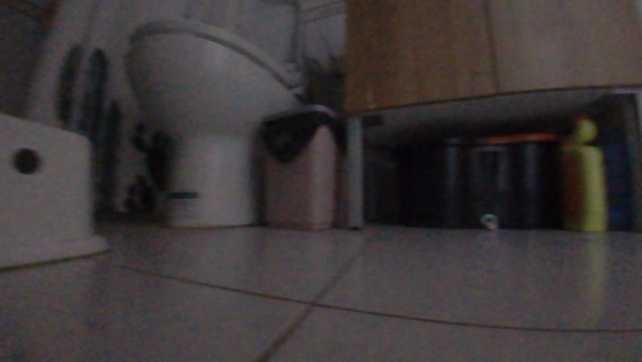toilet: (116, 0, 301, 232)
